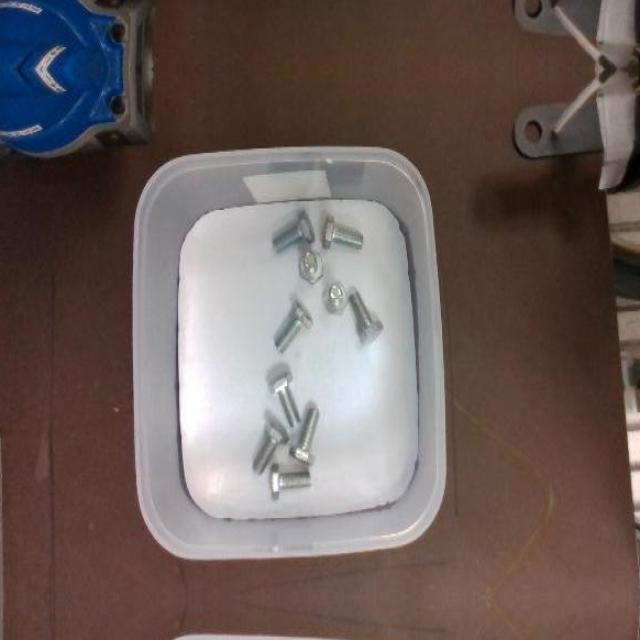screw: (275, 299, 313, 354), (253, 418, 290, 473), (348, 290, 384, 345), (272, 209, 316, 253), (268, 372, 302, 427), (290, 408, 321, 465), (270, 463, 312, 500), (322, 214, 364, 248), (323, 281, 349, 314), (300, 249, 324, 282)
